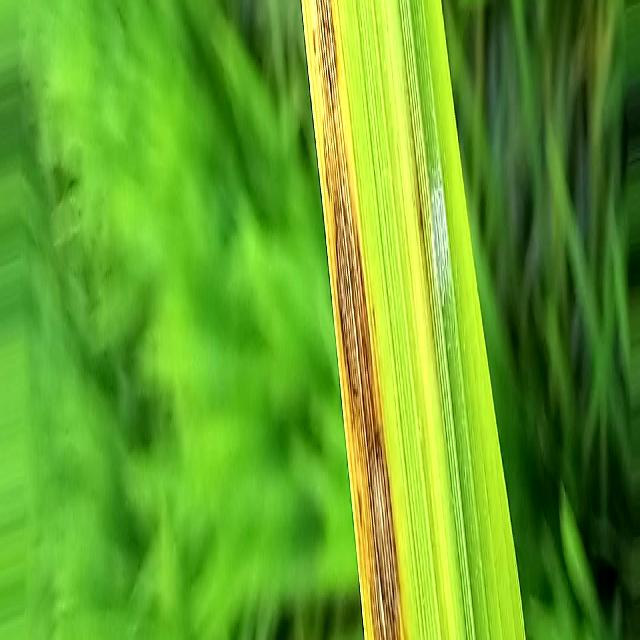LEAF BLAST: (316, 0, 401, 640)
